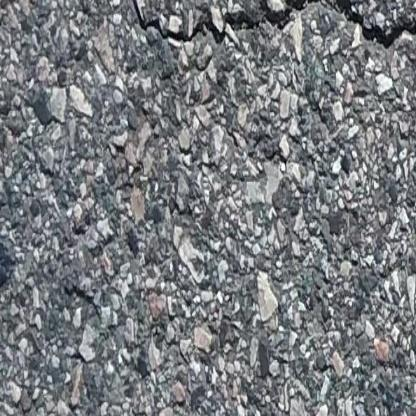Cracks: (258, 0, 416, 54), (129, 0, 260, 50)
